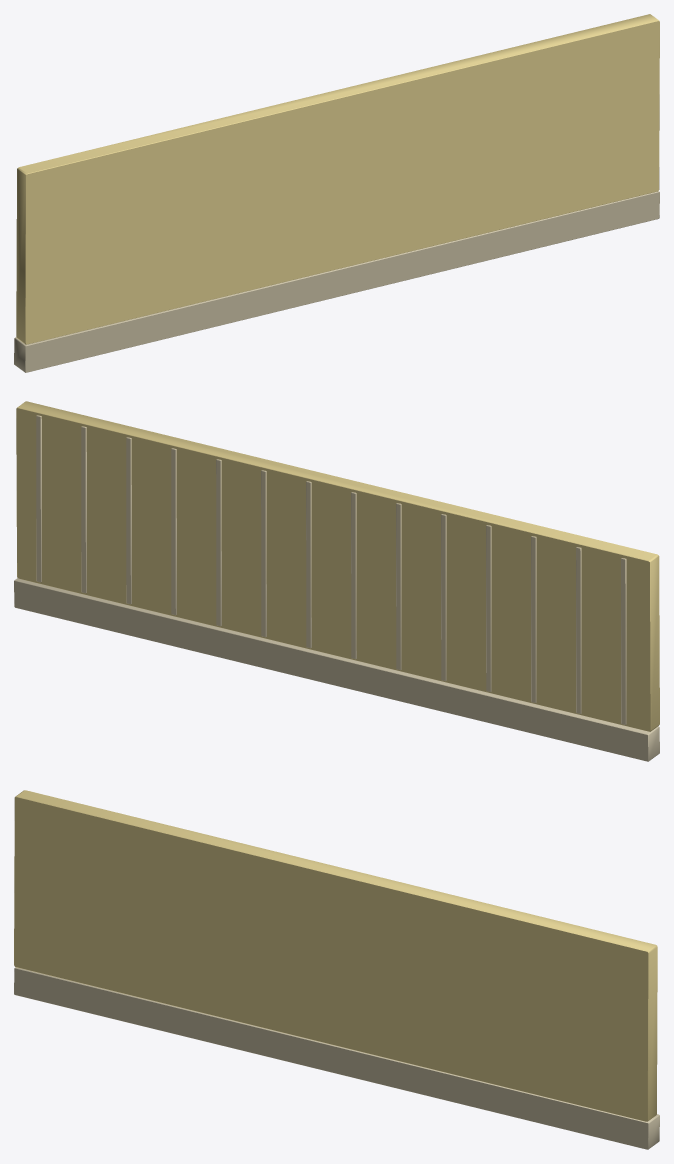
Rendered from LV_corridor_panel.fbx.
3 renders of one model, top to bottom at view 1: azimuth 30°, elevation 25°; view 2: azimuth 150°, elevation 25°; view 3: azimuth 330°, elevation 25°, orthographic.
Parts seen in each view (by area): view 1: LV_corridor_panel; view 2: LV_corridor_panel; view 3: LV_corridor_panel.
Boxes of the visible parts, x1,y1,x2,y2 form: LV_corridor_panel: (14,14,659,372); LV_corridor_panel: (14,401,659,761); LV_corridor_panel: (14,790,659,1149).
Size of the model in its own units: 2.4 by 0.72 by 0.075.
